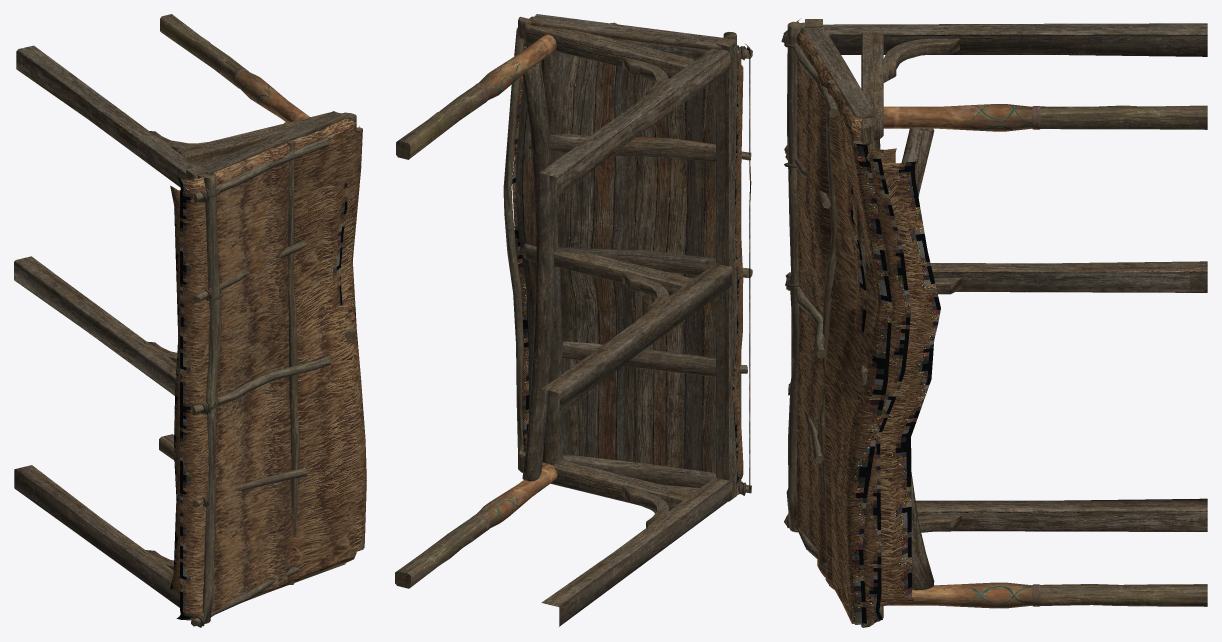
File: VIK_VIL_EXT_Annex_Shed_Hay_6x3_01A_LOD0-transformed.glb
The picture shows the model from 3 angles, left to right: view 1: azimuth 30°, elevation 25°; view 2: azimuth 150°, elevation 25°; view 3: azimuth 270°, elevation 25°; orthographic projection. The views are drawn at different scales.
Visible parts, largest first — view 1: VIK_VIL_EXT_Annex_Shed_Hay_6x3_01A_LOD0; view 2: VIK_VIL_EXT_Annex_Shed_Hay_6x3_01A_LOD0; view 3: VIK_VIL_EXT_Annex_Shed_Hay_6x3_01A_LOD0.
Boxes of the visible parts, x1,y1,x2,y2 form: VIK_VIL_EXT_Annex_Shed_Hay_6x3_01A_LOD0: (14,14,366,627); VIK_VIL_EXT_Annex_Shed_Hay_6x3_01A_LOD0: (395,14,752,626); VIK_VIL_EXT_Annex_Shed_Hay_6x3_01A_LOD0: (781,19,1207,627).
Size of the model in its own units: 0.0312 by 0.0641 by 0.0485.
5 materials, 5 textured.
